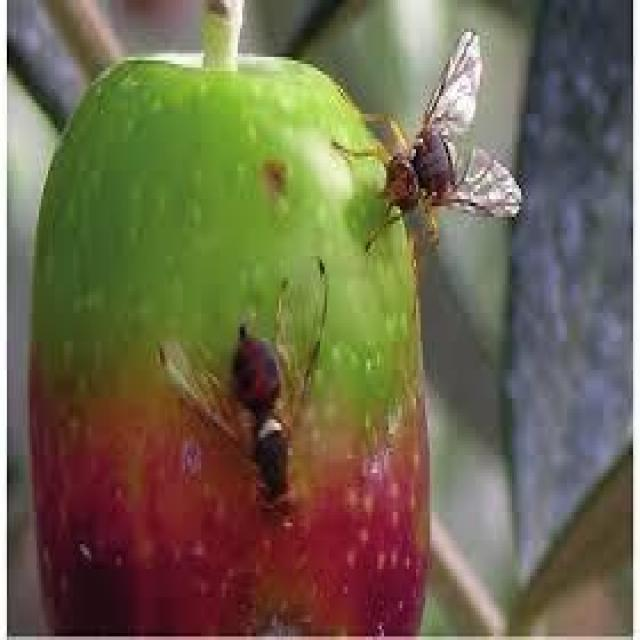Anthracnose: (28, 61, 428, 636)
